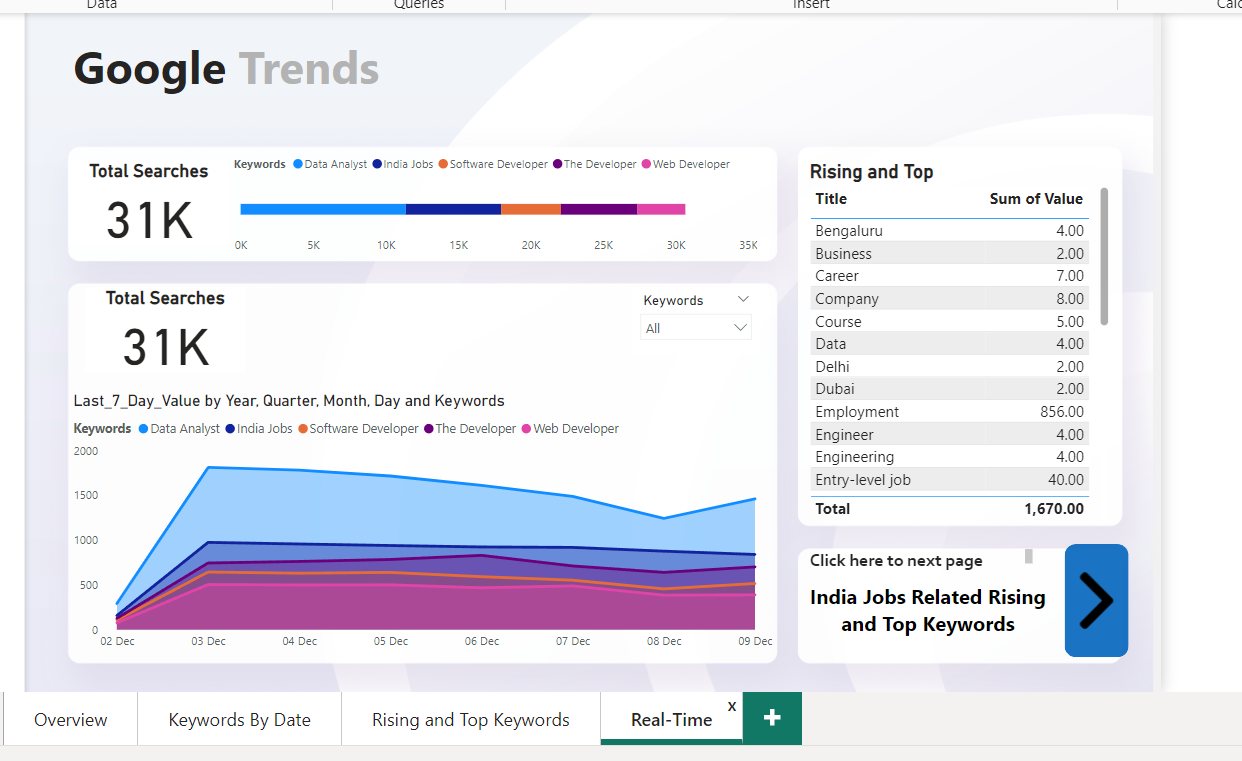

The page's visual inventory and layout, read from the dashboard file:
{"tool":"powerbi","page":{"name":"Real-Time","canvas":[1280,720],"ordinal":3},"visuals":[{"type":"areaChart","fields":{"Y":["Past_7_Days_Searches.Last_7_Day_Value"],"Category":["Past_7_Days_Searches.Column1.date.Variation.Date Hierarchy.Year","Past_7_Days_Searches.Column1.date.Variation.Date Hierarchy.Quarter","Past_7_Days_Searches.Column1.date.Variation.Date Hierarchy.Month","Past_7_Days_Searches.Column1.date.Variation.Date Hierarchy.Day"],"Series":["Past_7_Days_Searches.Keywords"]},"box":[122.3,400.8,751.6,282.6],"z":0},{"type":"slicer","fields":{"Values":["Past_7_Days_Searches.Keywords"]},"box":[719.5,290.6,138.3,70.1],"z":1000},{"type":"card","title":"Total Searches","fields":{"Values":["Past_7_Days_Searches.Last_7_Day_Value"]},"box":[140.3,290.6,170.4,90.2],"z":2000},{"type":"card","title":"Total Searches","fields":{"Values":["Past_7_Days_Searches.Last_7_Day_Value"]},"box":[122.3,156.3,170.4,90.2],"z":3000},{"type":"barChart","title":"Total Searches","fields":{"Y":["Past_7_Days_Searches.Last_7_Day_Value"],"Series":["Past_7_Days_Searches.Keywords"]},"box":[292.6,140.3,565.2,124.3],"z":4000},{"type":"tableEx","title":"Rising and Top","fields":{"Values":["Top_Rising.Title","Sum(Top_Rising.Value)"]},"box":[903.9,156.3,326.7,384.8],"z":5000},{"type":"shape","box":[903.9,581.2,260.5,102.2],"z":6000},{"type":"actionButton","box":[1178.5,563.2,68.1,120.3],"z":7000},{"type":"textbox","box":[903.9,563.2,246.5,36.1],"z":8000},{"type":"textbox","box":[122.5,17.5,351.5,103.4],"z":8001}]}

Visuals, with their boxes on the page's 1280x720 design canvas (x1, y1, x2, y2). These are canvas units, not pixel positions in the 1242x761 screenshot, which may show the page scaled, cropped or inside an application window:
areaChart - Past_7_Days_Searches.Last_7_Day_Value x Past_7_Days_Searches.Column1.date.Variation.Date Hierarchy.Year: 122:401:874:683
slicer - Past_7_Days_Searches.Keywords: 720:291:858:361
"Total Searches" card: 140:291:311:381
"Total Searches" card: 122:156:293:246
"Total Searches" barChart: 293:140:858:265
"Rising and Top" tableEx: 904:156:1231:541
shape: 904:581:1164:683
actionButton: 1178:563:1247:684
textbox: 904:563:1150:599
textbox: 122:18:474:121
